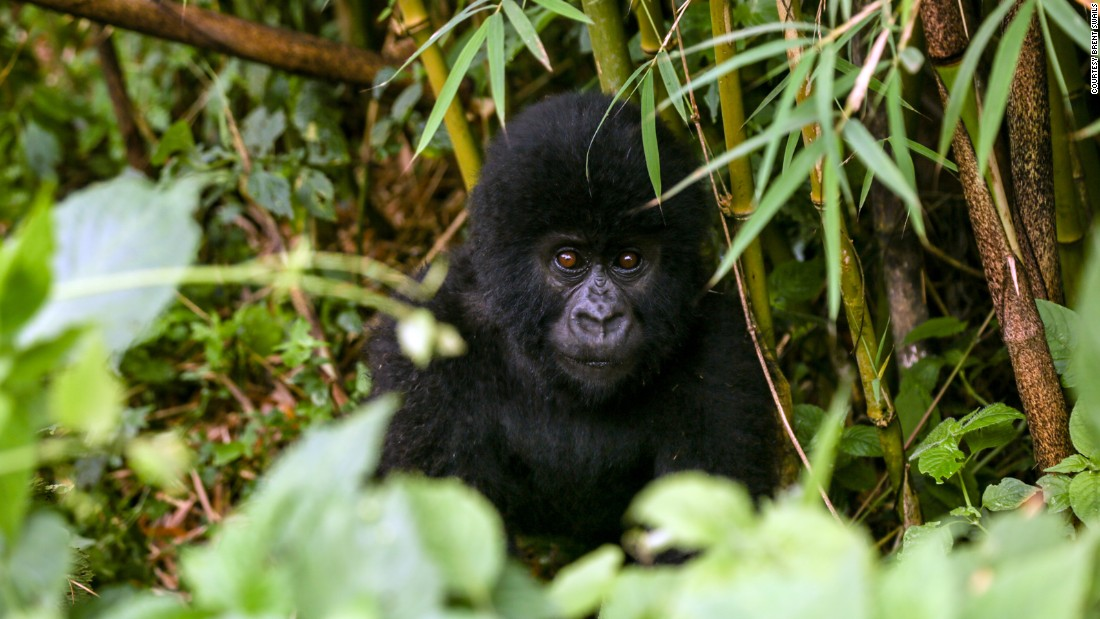Goriila: (358, 101, 895, 581)
